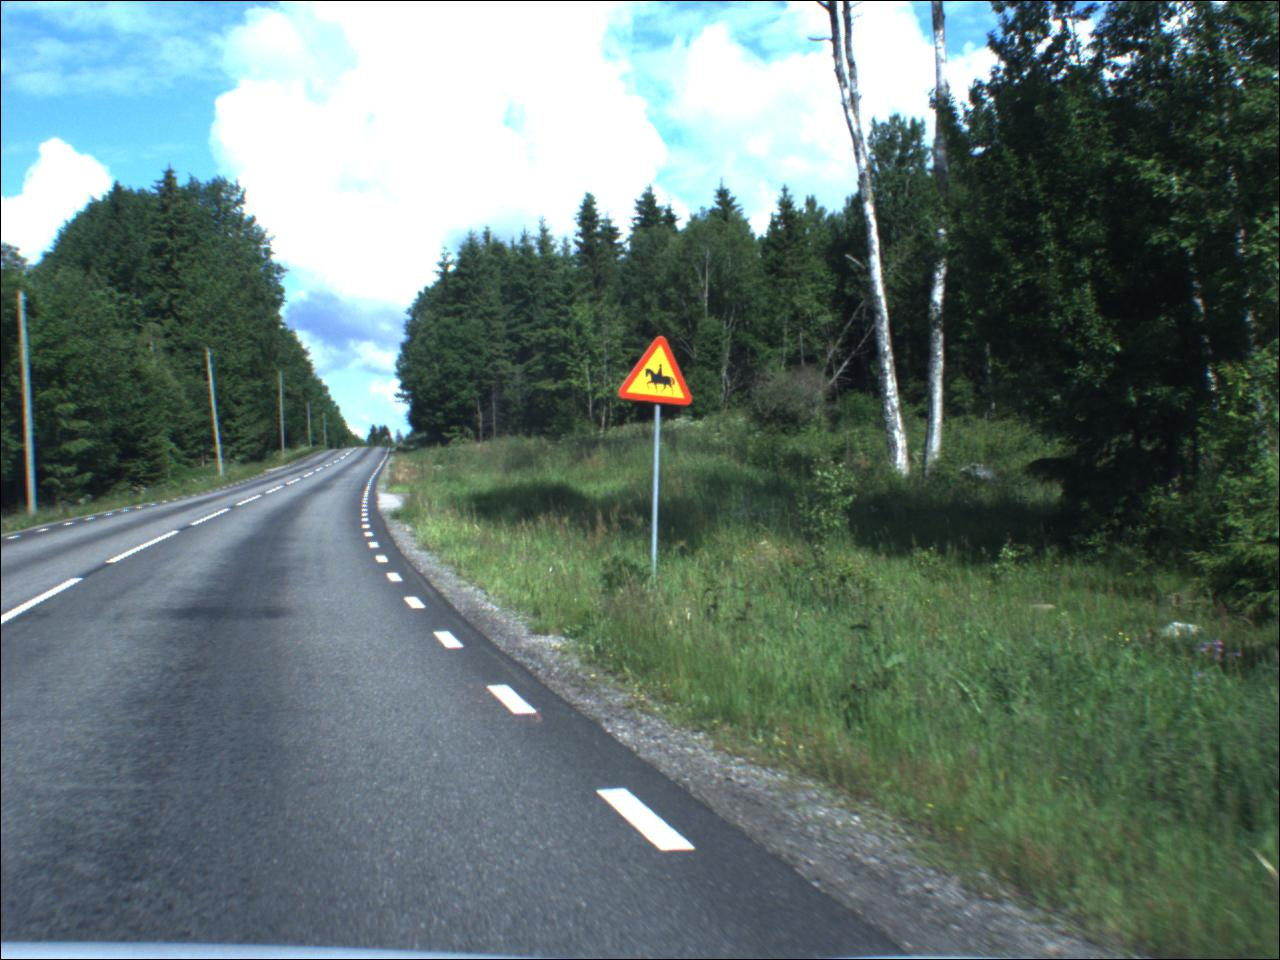WARNING_EQUISTARIANS: (618, 336, 698, 412)
